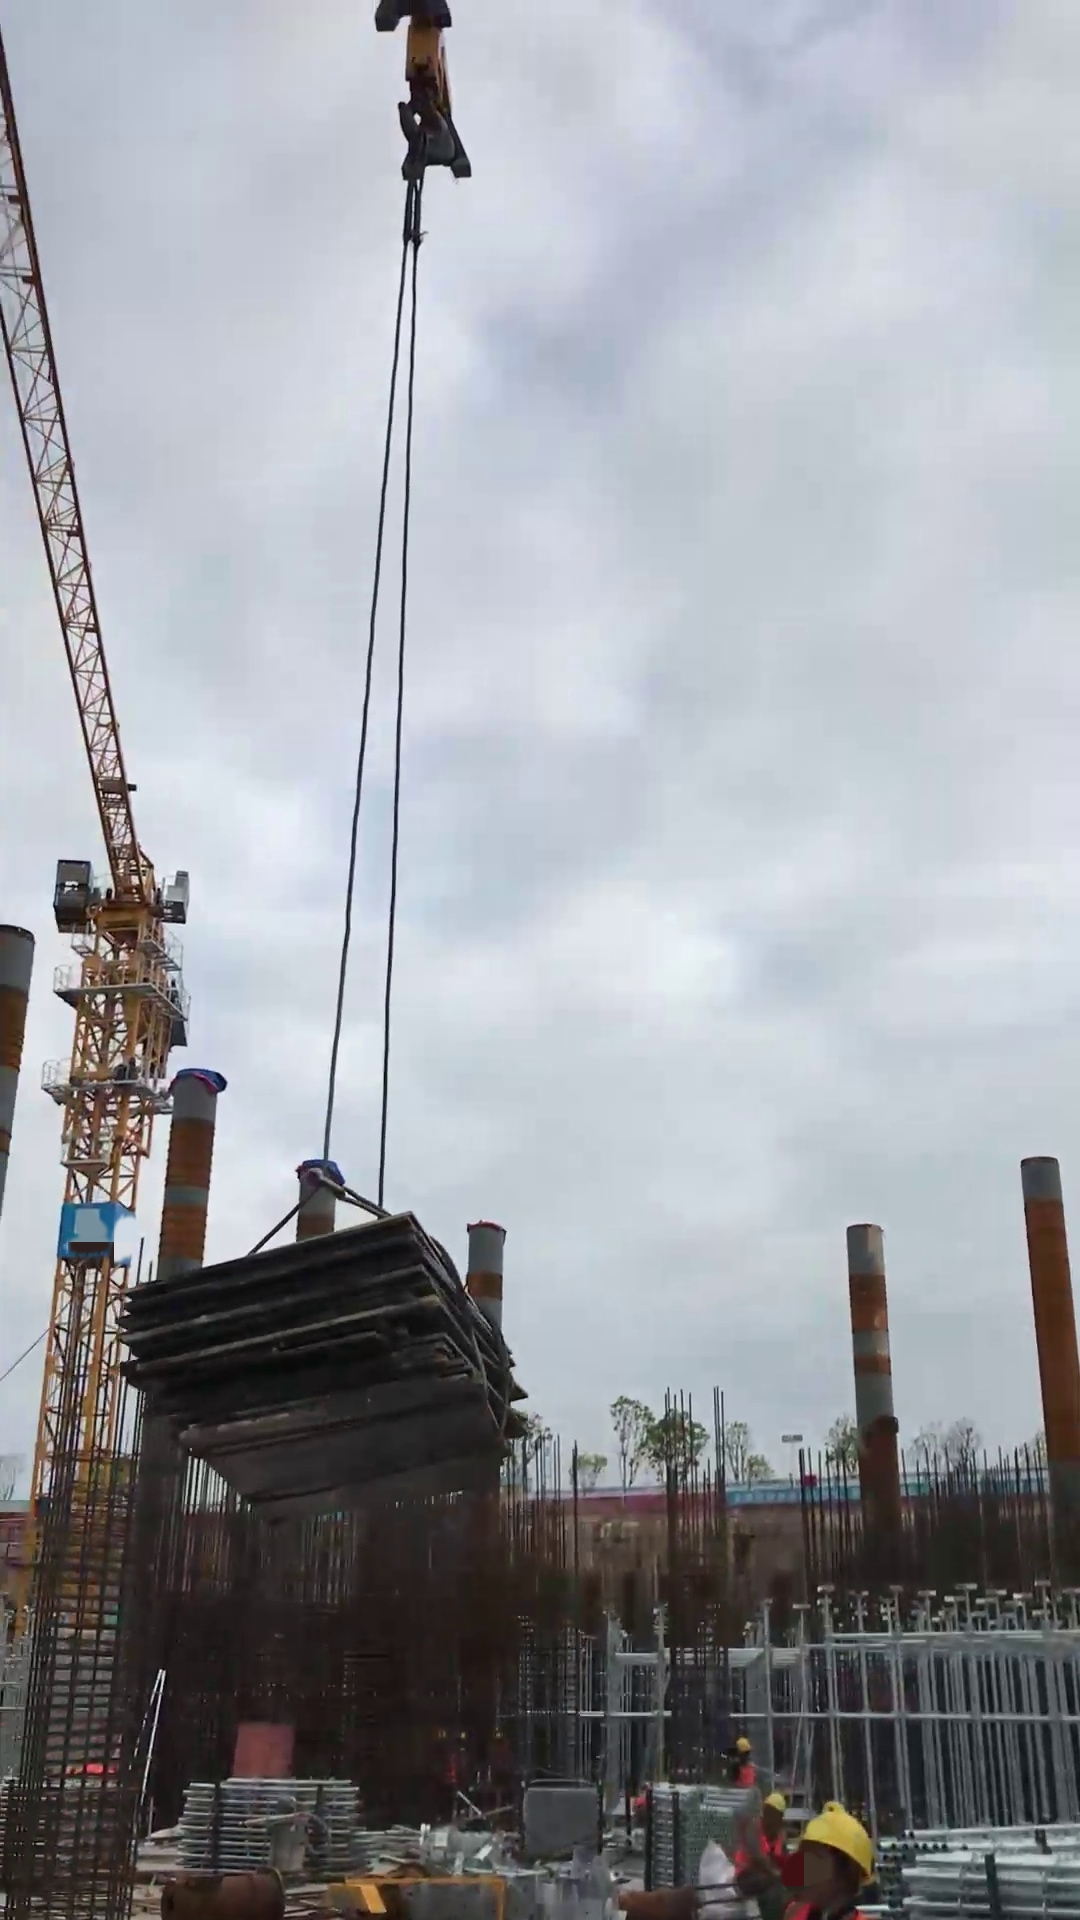board: (109, 1209, 530, 1529)
helmet: (797, 1800, 876, 1889), (762, 1791, 789, 1817), (734, 1735, 750, 1753)
hook: (369, 1, 475, 192)
person: (732, 1791, 794, 1917), (727, 1734, 757, 1791)
scaffold: (179, 1769, 362, 1879), (878, 1824, 1080, 1919), (641, 1781, 757, 1891)
slogan: (729, 1486, 862, 1503)
vest: (736, 1818, 788, 1876), (730, 1761, 757, 1791)
